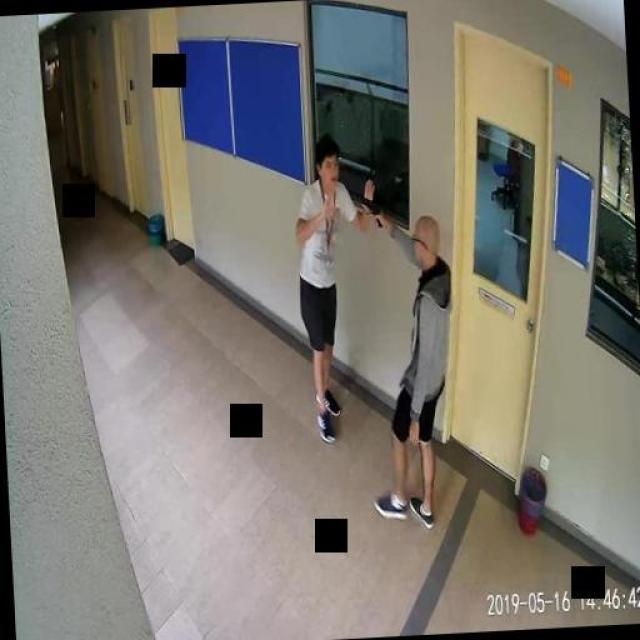gun: (360, 194, 381, 228)
